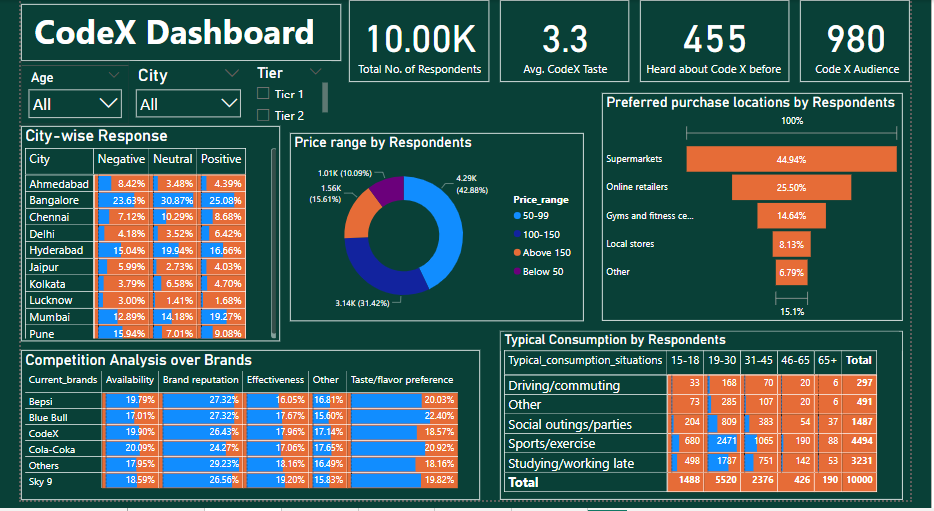

The page's visual inventory and layout, read from the dashboard file:
{"tool":"powerbi","page":{"name":"Page 2","canvas":[1280,720],"ordinal":1},"visuals":[{"type":"card","fields":{"Values":["fact_survey_responses.CodeX"]},"box":[1121.8,0,158.4,118.1],"z":0},{"type":"card","fields":{"Values":["CountNonNull(fact_survey_responses.Respondent_ID)"]},"box":[472.3,0,201.6,118.1],"z":1000},{"type":"textbox","box":[0,5.8,460.8,82.1],"z":2000},{"type":"card","fields":{"Values":["fact_survey_responses.CodeX Average"]},"box":[689.8,0,185.8,118.1],"z":3000},{"type":"card","fields":{"Values":["fact_survey_responses.CodeX Audience"]},"box":[891.4,0,214.6,118.1],"z":4000},{"type":"slicer","fields":{"Values":["dim_repondents.Age"]},"box":[0,87.8,155.5,90.7],"z":5000},{"type":"slicer","fields":{"Values":["dim_cities.City"]},"box":[155.5,87.8,171.4,90.7],"z":6000},{"type":"slicer","fields":{"Values":["dim_cities.Tier"]},"box":[326.9,87.8,119.5,90.7],"z":7000},{"type":"pivotTable","title":"Typical Consumption by Respondents","fields":{"Values":["CountNonNull(fact_survey_responses.Respondent_ID)"],"Rows":["fact_survey_responses.Typical_consumption_situations"],"Columns":["dim_repondents.Age"]},"box":[689.8,476.6,580.3,243.4],"z":8000},{"type":"funnel","title":"Preferred purchase locations by Respondents","fields":{"Category":["fact_survey_responses.Purchase_location"],"Y":["CountNonNull(fact_survey_responses.Respondent_ID)"]},"box":[836.6,133.9,433.4,328.3],"z":9000},{"type":"pivotTable","title":"City-wise Response","fields":{"Rows":["dim_cities.City"],"Columns":["fact_survey_responses.Brand_perception"],"Values":["CountNonNull(fact_survey_responses.Respondent_ID)"]},"box":[0,181.4,373,309.6],"z":10000},{"type":"pivotTable","title":"Competition Analysis over Brands","fields":{"Values":["CountNonNull(fact_survey_responses.Respondent_ID)"],"Columns":["fact_survey_responses.Reasons_for_choosing_brands"],"Rows":["fact_survey_responses.Current_brands"]},"box":[0,504,661,216],"z":11000},{"type":"donutChart","title":"Price range by Respondents","fields":{"Y":["CountNonNull(fact_survey_responses.Respondent_ID)"],"Category":["fact_survey_responses.Price_range"]},"box":[387.4,191.5,423.4,270.7],"z":12000}]}

Visuals, with their boxes in screenshot pixels (x1, y1, x2, y2), scaled from the page's 1280x720 canvas onto the 934x511 screenshot:
card - fact_survey_responses.CodeX: (819, 0, 933, 84)
card - CountNonNull(fact_survey_responses.Respondent_ID): (345, 0, 492, 84)
textbox: (0, 4, 336, 62)
card - fact_survey_responses.CodeX Average: (503, 0, 639, 84)
card - fact_survey_responses.CodeX Audience: (650, 0, 807, 84)
slicer - dim_repondents.Age: (0, 62, 113, 127)
slicer - dim_cities.City: (113, 62, 239, 127)
slicer - dim_cities.Tier: (239, 62, 326, 127)
"Typical Consumption by Respondents" pivotTable: (503, 338, 927, 510)
"Preferred purchase locations by Respondents" funnel: (610, 95, 927, 328)
"City-wise Response" pivotTable: (0, 129, 272, 348)
"Competition Analysis over Brands" pivotTable: (0, 358, 482, 510)
"Price range by Respondents" donutChart: (283, 136, 592, 328)
